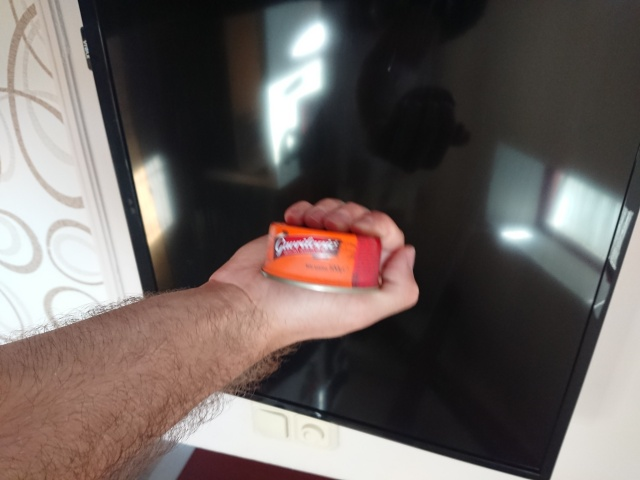Gavrilovic Pork Liver Pate 100g: (256, 219, 384, 296)
